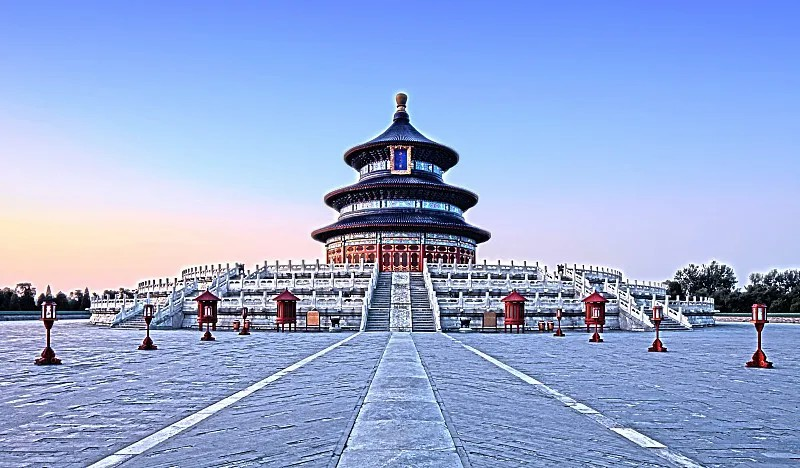Heaven: (310, 91, 493, 271)
